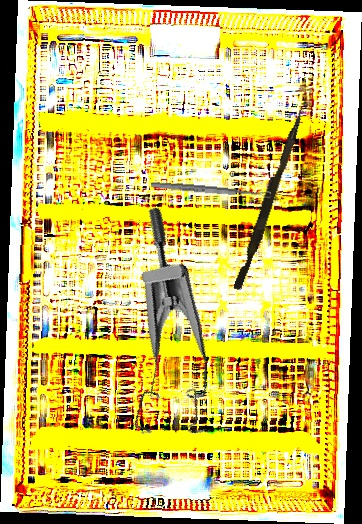Pusher: (233, 102, 306, 293)
Speculum: (59, 204, 250, 458)
Surgical Spoon: (150, 180, 272, 200)
